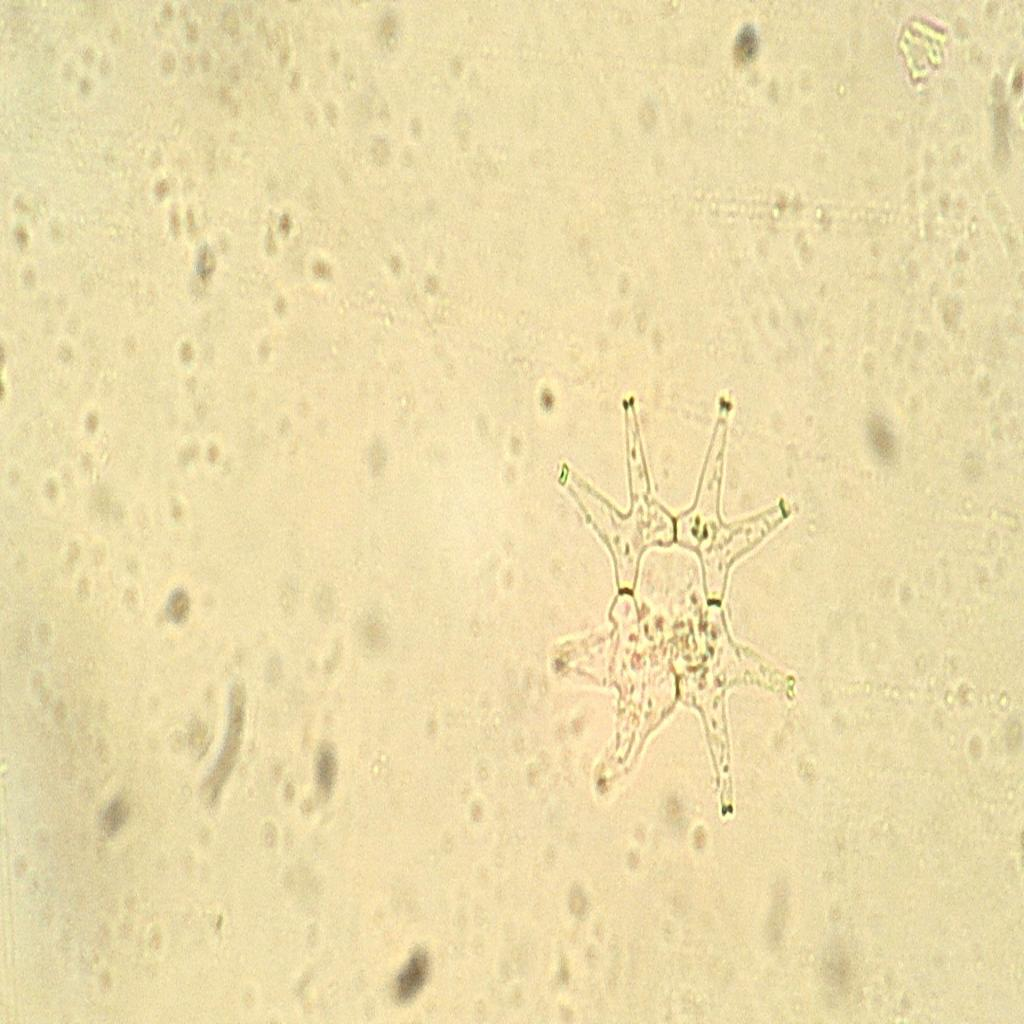Pediastrum_1F0: (518, 353, 822, 849)
